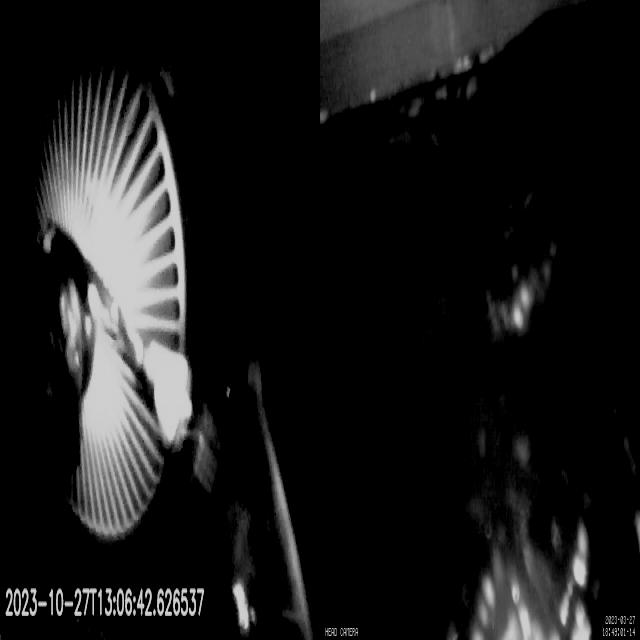head: (154, 346, 226, 506)
